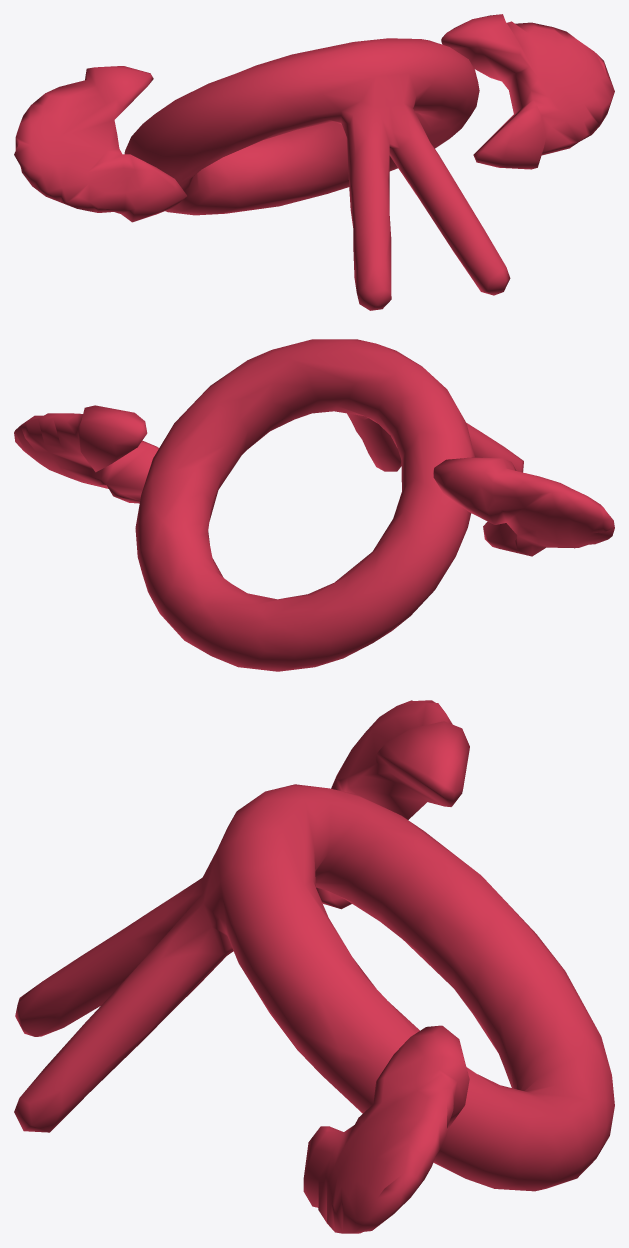
The model's file is noduoi.glb.
3 views of the same model, one above another, from view 1: azimuth 30°, elevation 25°; view 2: azimuth 150°, elevation 25°; view 3: azimuth 270°, elevation 25° (orthographic). The views are drawn at different scales.
Visible parts, largest first — view 1: No_Duoi; view 2: No_Duoi; view 3: No_Duoi.
Part boxes in pixels (box(x1,y1,x2,y2)): No_Duoi: box(14, 14, 614, 310); No_Duoi: box(14, 339, 614, 671); No_Duoi: box(14, 700, 614, 1233).
Bounding box in the file's own units: 0.1503 × 0.0586 × 0.096.
